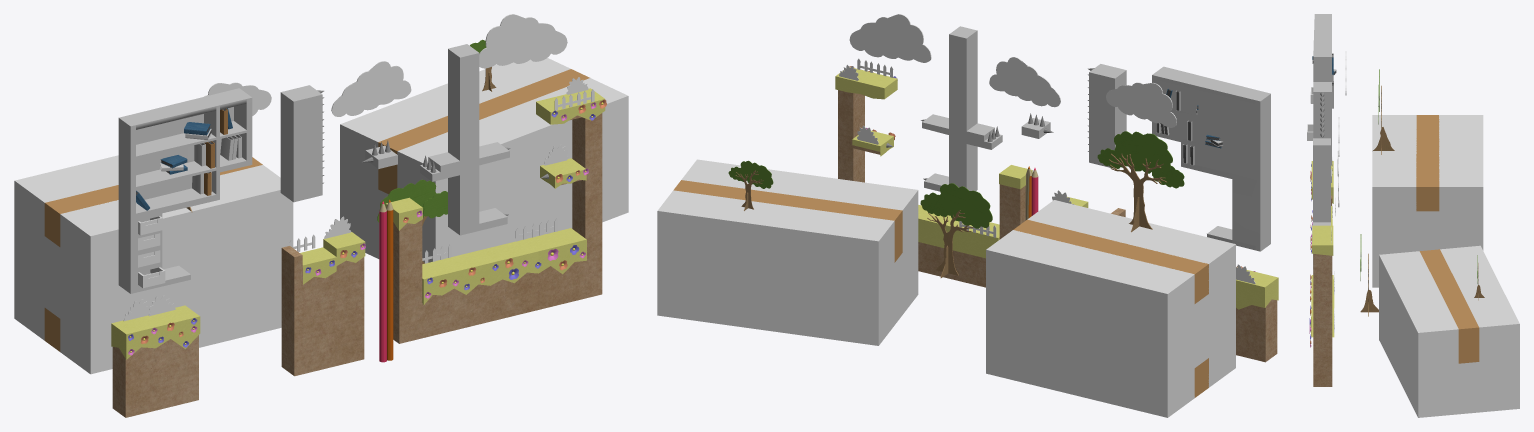
File: Pantalla_3_True.fbx
3 renders of one model, left to right at view 1: azimuth 30°, elevation 25°; view 2: azimuth 150°, elevation 25°; view 3: azimuth 270°, elevation 25°, orthographic. The views are drawn at different scales.
Visible parts, largest first — view 1: Caja_1, Cube, Pantalla_3.003, Cube.002, Pantalla_3.006, Pantalla_3.002, Pantalla_3.004, Nube.002, Nube, Cylinder.002, Florecilla.056, Arbol2.001 (+2 smaller); view 2: Caja_1, Cube, Cube.002, Pantalla_3.003, Pantalla_3.002, Pantalla_3.006, Pantalla_3.004, Nube.002, Arbol1.001, Nube, Nube.001, Arbol2.001 (+4 smaller); view 3: Cube, Caja_1, Pantalla_3.003, Pantalla_3.002, Cube.002, Pantalla_3.006, Pantalla_3.004, Arbol1, Arbol2, Florecilla.056.
Boxes of the visible parts, x1,y1,x2,y2 form: Caja_1: (14, 155, 293, 374); Cube: (340, 58, 628, 262); Pantalla_3.003: (112, 113, 602, 417); Cube.002: (118, 88, 252, 293); Pantalla_3.006: (111, 88, 605, 359); Pantalla_3.002: (420, 44, 509, 235); Pantalla_3.004: (280, 85, 322, 202); Nube.002: (479, 14, 567, 68); Nube: (331, 61, 411, 116); Cylinder.002: (379, 199, 393, 362); Florecilla.056: (128, 99, 606, 355); Arbol2.001: (377, 179, 447, 222); Caja_1: (986, 200, 1235, 417); Cube: (657, 159, 918, 345); Cube.002: (1152, 66, 1270, 251); Pantalla_3.003: (838, 90, 1277, 362); Pantalla_3.002: (922, 26, 1002, 191); Pantalla_3.006: (835, 67, 1278, 309); Pantalla_3.004: (1089, 64, 1126, 168); Nube.002: (849, 14, 931, 62); Arbol1.001: (1097, 131, 1184, 188); Nube: (989, 57, 1060, 107); Nube.001: (1106, 82, 1176, 127); Arbol2.001: (920, 183, 992, 228); Cube: (1379, 245, 1519, 417); Caja_1: (1372, 115, 1483, 287); Pantalla_3.003: (1313, 195, 1332, 386); Pantalla_3.002: (1313, 138, 1330, 274); Cube.002: (1307, 14, 1331, 140); Pantalla_3.006: (1310, 161, 1334, 337); Pantalla_3.004: (1313, 82, 1331, 165); Arbol1: (1373, 85, 1394, 154); Arbol2: (1360, 253, 1378, 316); Florecilla.056: (1309, 164, 1312, 347).
Bounding box in the file's own units: 10465 × 5294 × 4602.
